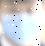with_mask: (1, 1, 45, 46)
